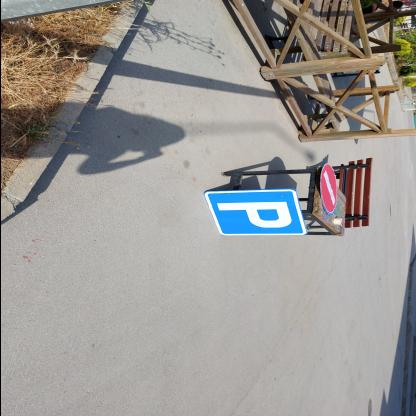Parking-Sign: (202, 189, 309, 237)
